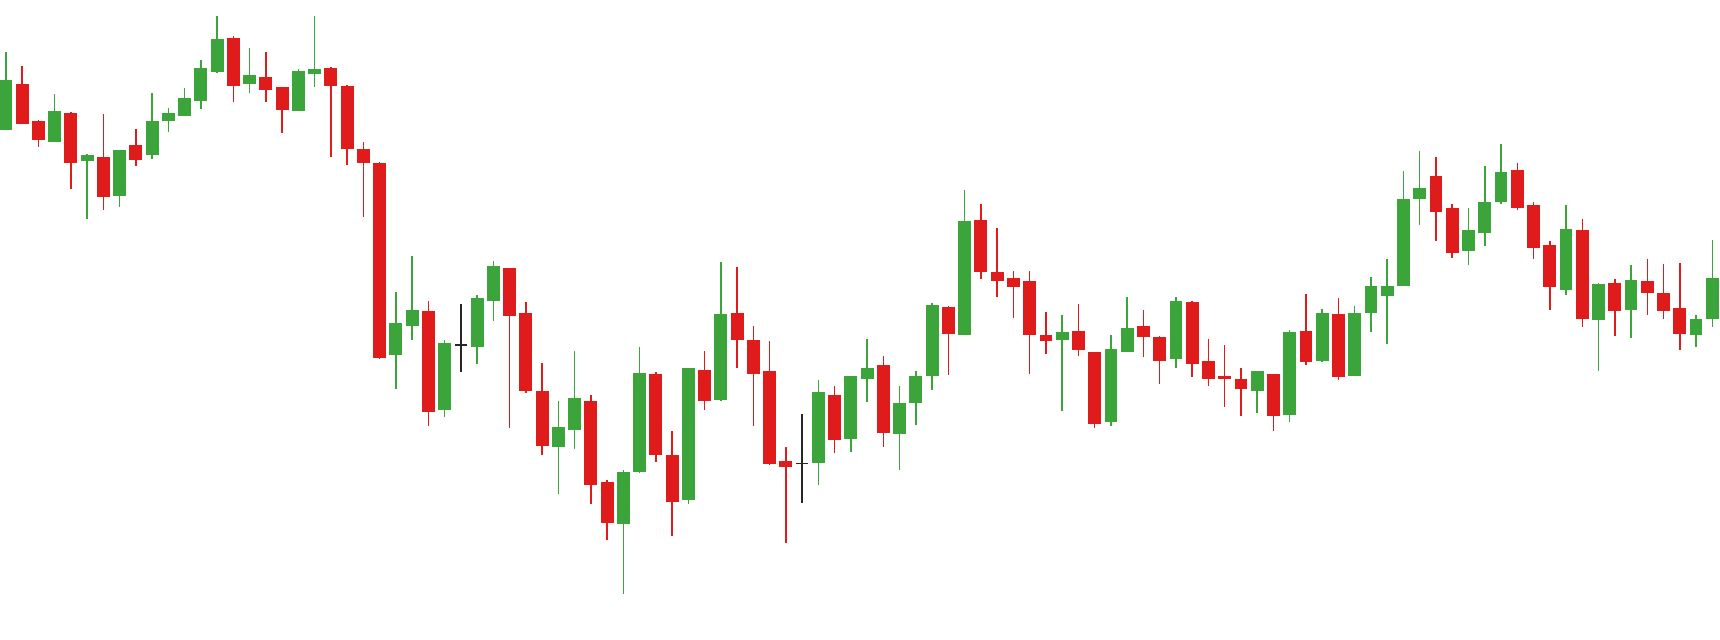buy: (664, 344, 794, 546)
sell: (1, 19, 244, 135), (1411, 145, 1509, 236)
